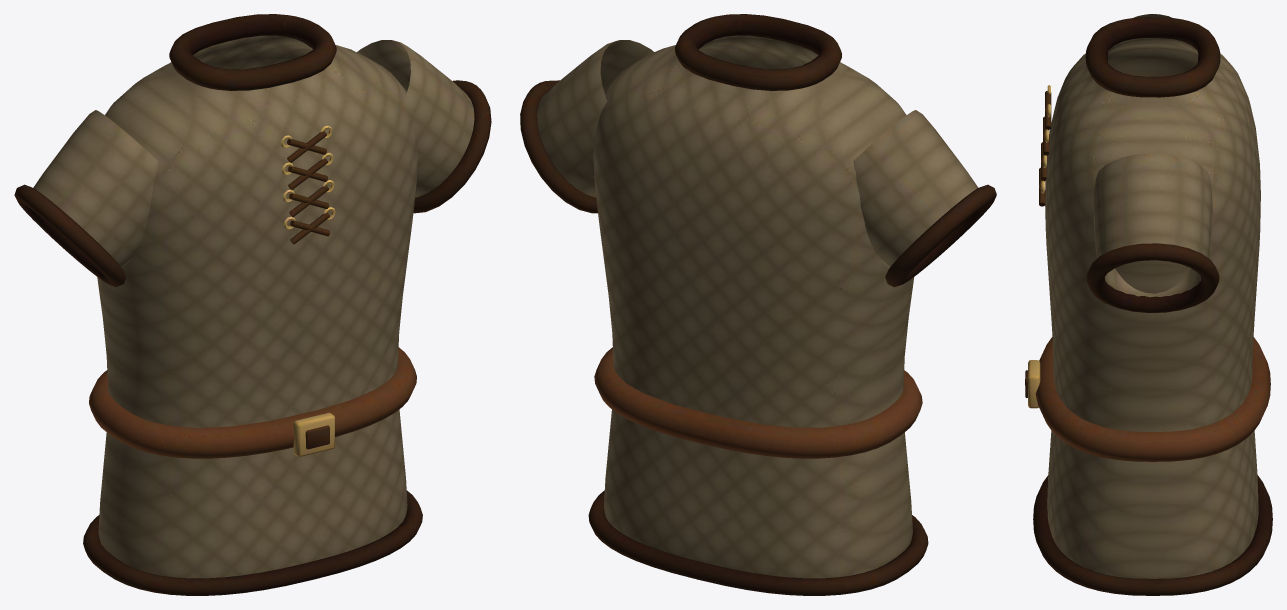
Rendered from padded_tunic.glb.
The picture shows the model from 3 angles, left to right: view 1: azimuth 30°, elevation 25°; view 2: azimuth 150°, elevation 25°; view 3: azimuth 270°, elevation 25°; orthographic projection. The views are drawn at different scales.
Parts seen in each view (by area): view 1: padded_tunic; view 2: padded_tunic; view 3: padded_tunic.
Boxes of the visible parts, box(x1,y1,x2,y2) form: padded_tunic: box(14, 14, 491, 595); padded_tunic: box(520, 14, 996, 595); padded_tunic: box(1025, 14, 1272, 595).
Bounding box in the file's own units: 0.5031 × 0.526 × 0.246.
Materials: 1 (1 with a texture image).
